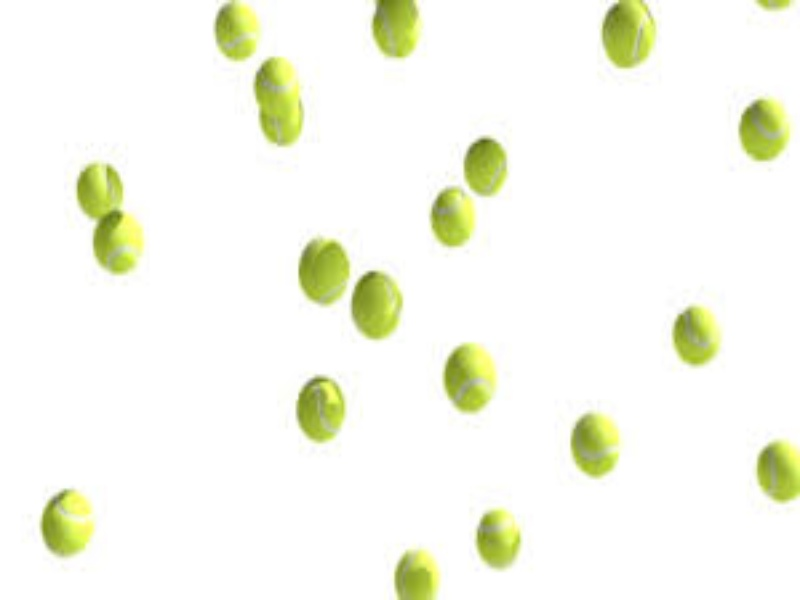tennis ball: (571, 406, 666, 508), (597, 1, 683, 81), (284, 372, 373, 449), (728, 88, 799, 183), (34, 486, 109, 569), (434, 341, 515, 417), (350, 1, 446, 61), (286, 234, 363, 306), (348, 272, 422, 344), (471, 499, 540, 574), (63, 160, 140, 218), (87, 205, 151, 273), (426, 184, 493, 247), (669, 308, 736, 370), (243, 63, 315, 119), (457, 139, 530, 191), (211, 1, 274, 60), (253, 94, 323, 146), (745, 430, 800, 494), (385, 552, 450, 600)
